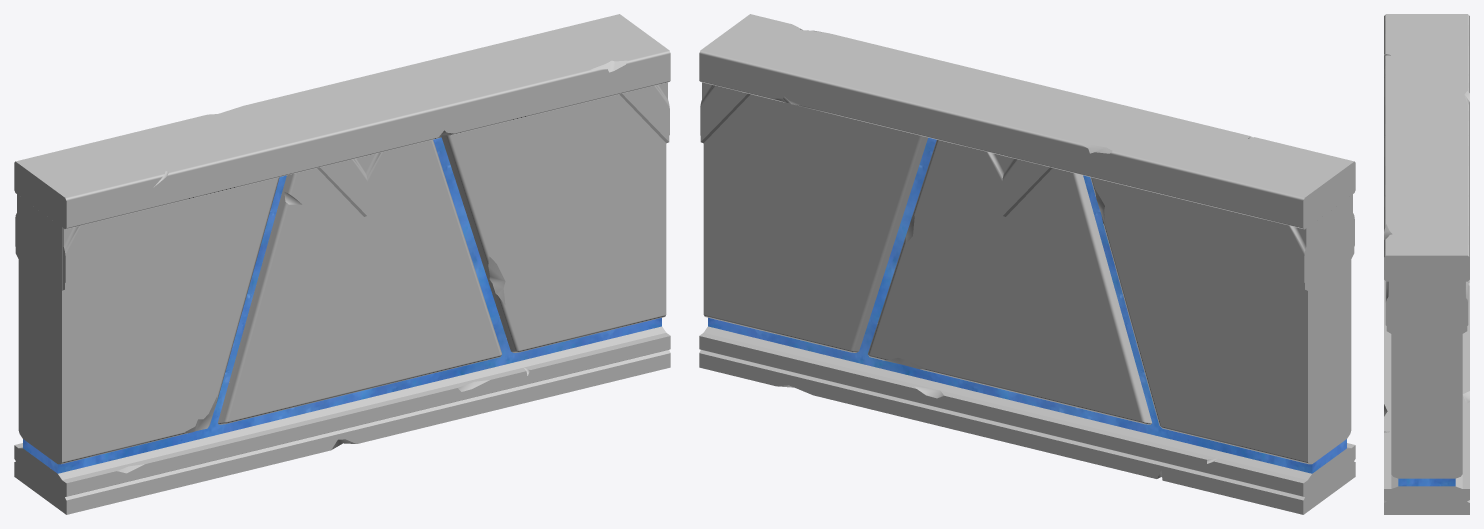
The picture shows the model from 3 angles, left to right: view 1: azimuth 30°, elevation 25°; view 2: azimuth 150°, elevation 25°; view 3: azimuth 270°, elevation 25°; orthographic projection. The views are drawn at different scales.
Visible parts, largest first — view 1: SM_Vault_4x2m_Wall_01_V1_LOD0; view 2: SM_Vault_4x2m_Wall_01_V1_LOD0; view 3: SM_Vault_4x2m_Wall_01_V1_LOD0.
Boxes of the visible parts, bbox=[...] form: SM_Vault_4x2m_Wall_01_V1_LOD0: bbox=[14, 14, 670, 514]; SM_Vault_4x2m_Wall_01_V1_LOD0: bbox=[699, 14, 1355, 514]; SM_Vault_4x2m_Wall_01_V1_LOD0: bbox=[1384, 14, 1469, 514].
Size of the model in its own units: 4 by 2 by 0.5999.
